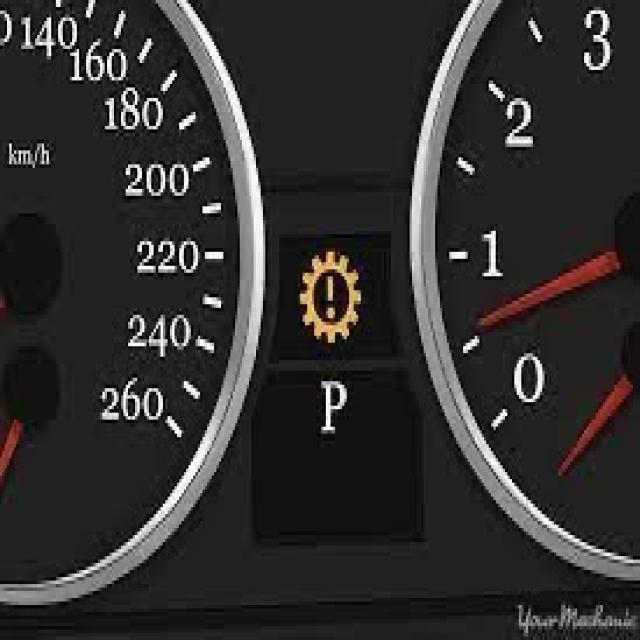kontrolka: (294, 242, 368, 352)
